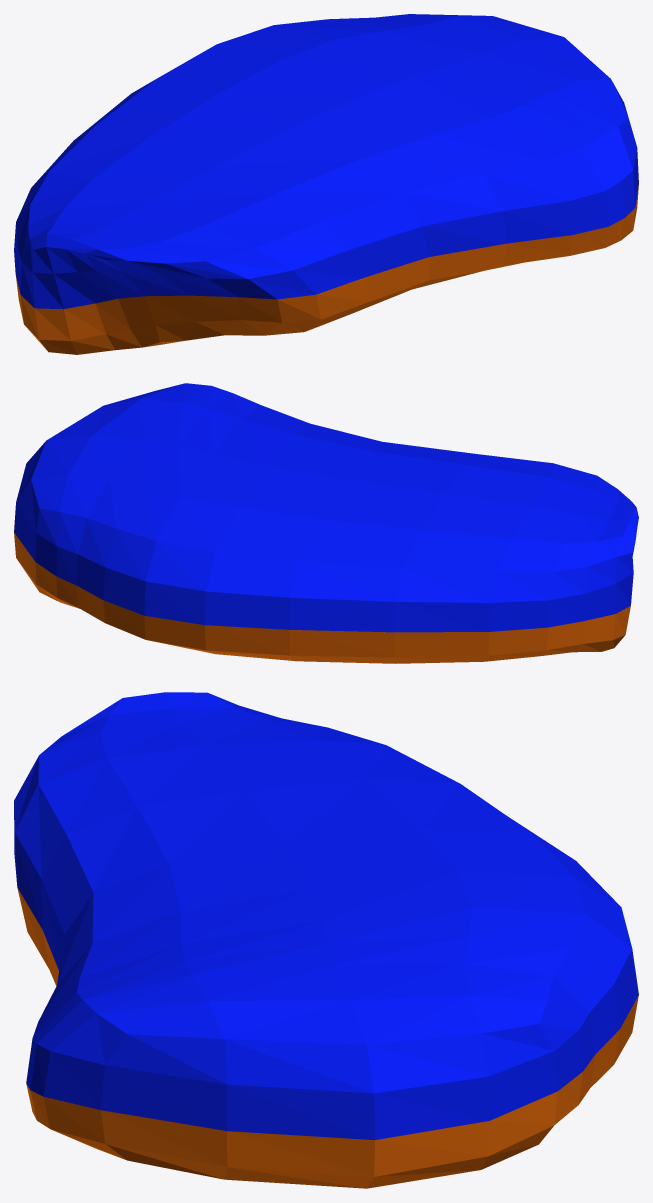
File: meowverse_island.glb
3 renders of one model, top to bottom at view 1: azimuth 30°, elevation 25°; view 2: azimuth 150°, elevation 25°; view 3: azimuth 270°, elevation 25°, orthographic. The views are drawn at different scales.
Parts seen in each view (by area): view 1: island; view 2: island; view 3: island.
Part boxes in pixels (x1,y1,x2,y2): island: (14, 14, 638, 354); island: (14, 383, 638, 663); island: (14, 692, 638, 1188).
Bounding box in the file's own units: 7.34 × 1.74 × 4.99.
